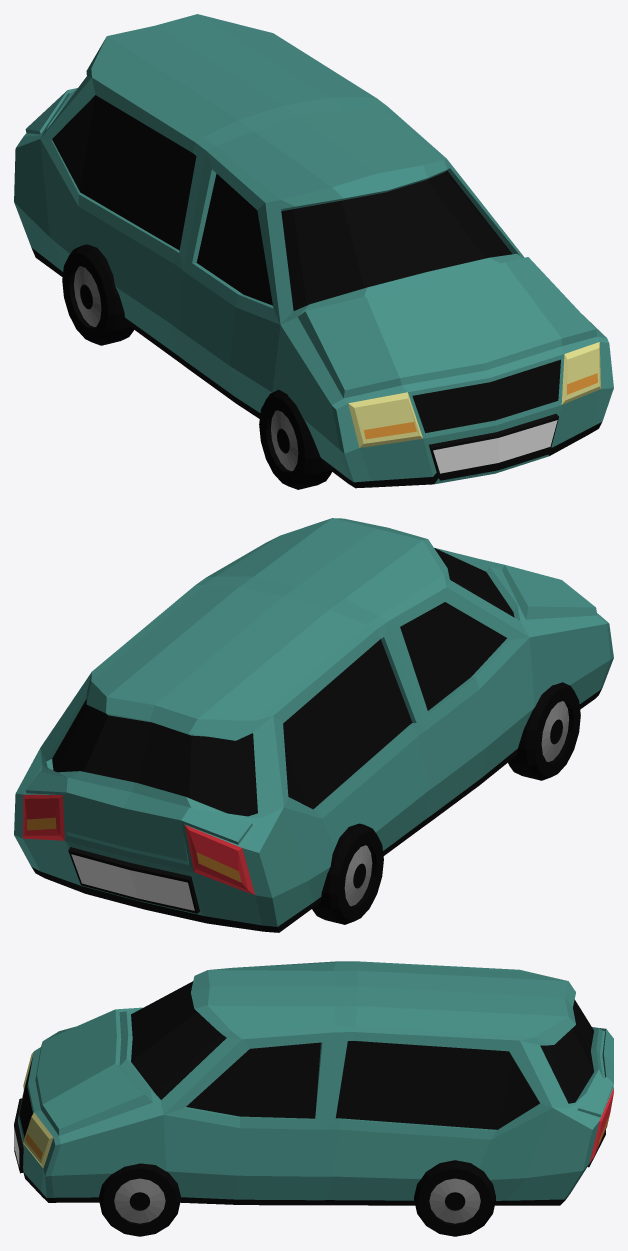
The model's file is car04.fbx.
The picture shows the model from 3 angles, top to bottom: view 1: azimuth 30°, elevation 25°; view 2: azimuth 150°, elevation 25°; view 3: azimuth 270°, elevation 25°; orthographic projection. The views are drawn at different scales.
Parts seen in each view (by area): view 1: Auto.003, Reifen.015, Reifen.014; view 2: Auto.003, Reifen.015, Reifen.014; view 3: Auto.003, Reifen.013, Reifen.012.
Boxes of the visible parts, x1,y1,x2,y2 form: Auto.003: (14, 14, 613, 488); Reifen.015: (62, 244, 133, 345); Reifen.014: (259, 389, 331, 489); Auto.003: (14, 518, 613, 932); Reifen.015: (312, 823, 383, 924); Reifen.014: (508, 682, 580, 780); Auto.003: (14, 961, 613, 1205); Reifen.013: (414, 1160, 495, 1236); Reifen.012: (99, 1163, 180, 1236).
Bounding box in the file's own units: 226 × 195 × 533.
